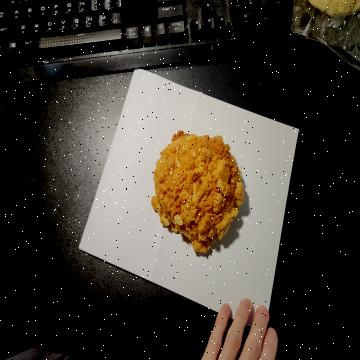soboru_bread: (146, 130, 247, 262)
